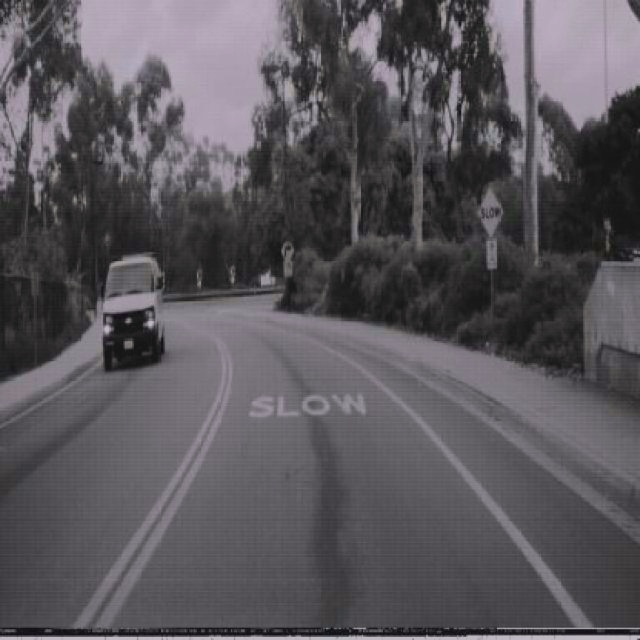slow: (477, 183, 505, 239)
turnRight: (282, 237, 296, 264)
